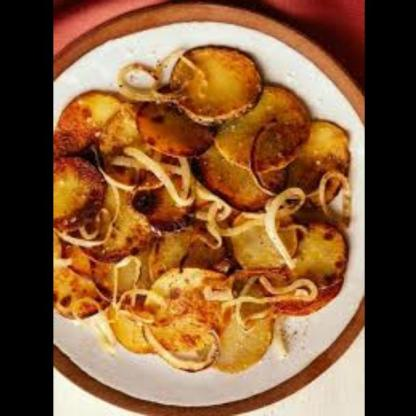onion: (222, 279, 321, 331), (108, 148, 188, 206), (138, 326, 219, 369), (108, 62, 193, 102), (103, 253, 146, 320), (193, 187, 233, 247), (268, 190, 301, 262), (78, 307, 120, 359), (318, 171, 350, 230), (52, 225, 112, 254), (268, 325, 293, 361)
potato: (51, 42, 358, 369)
